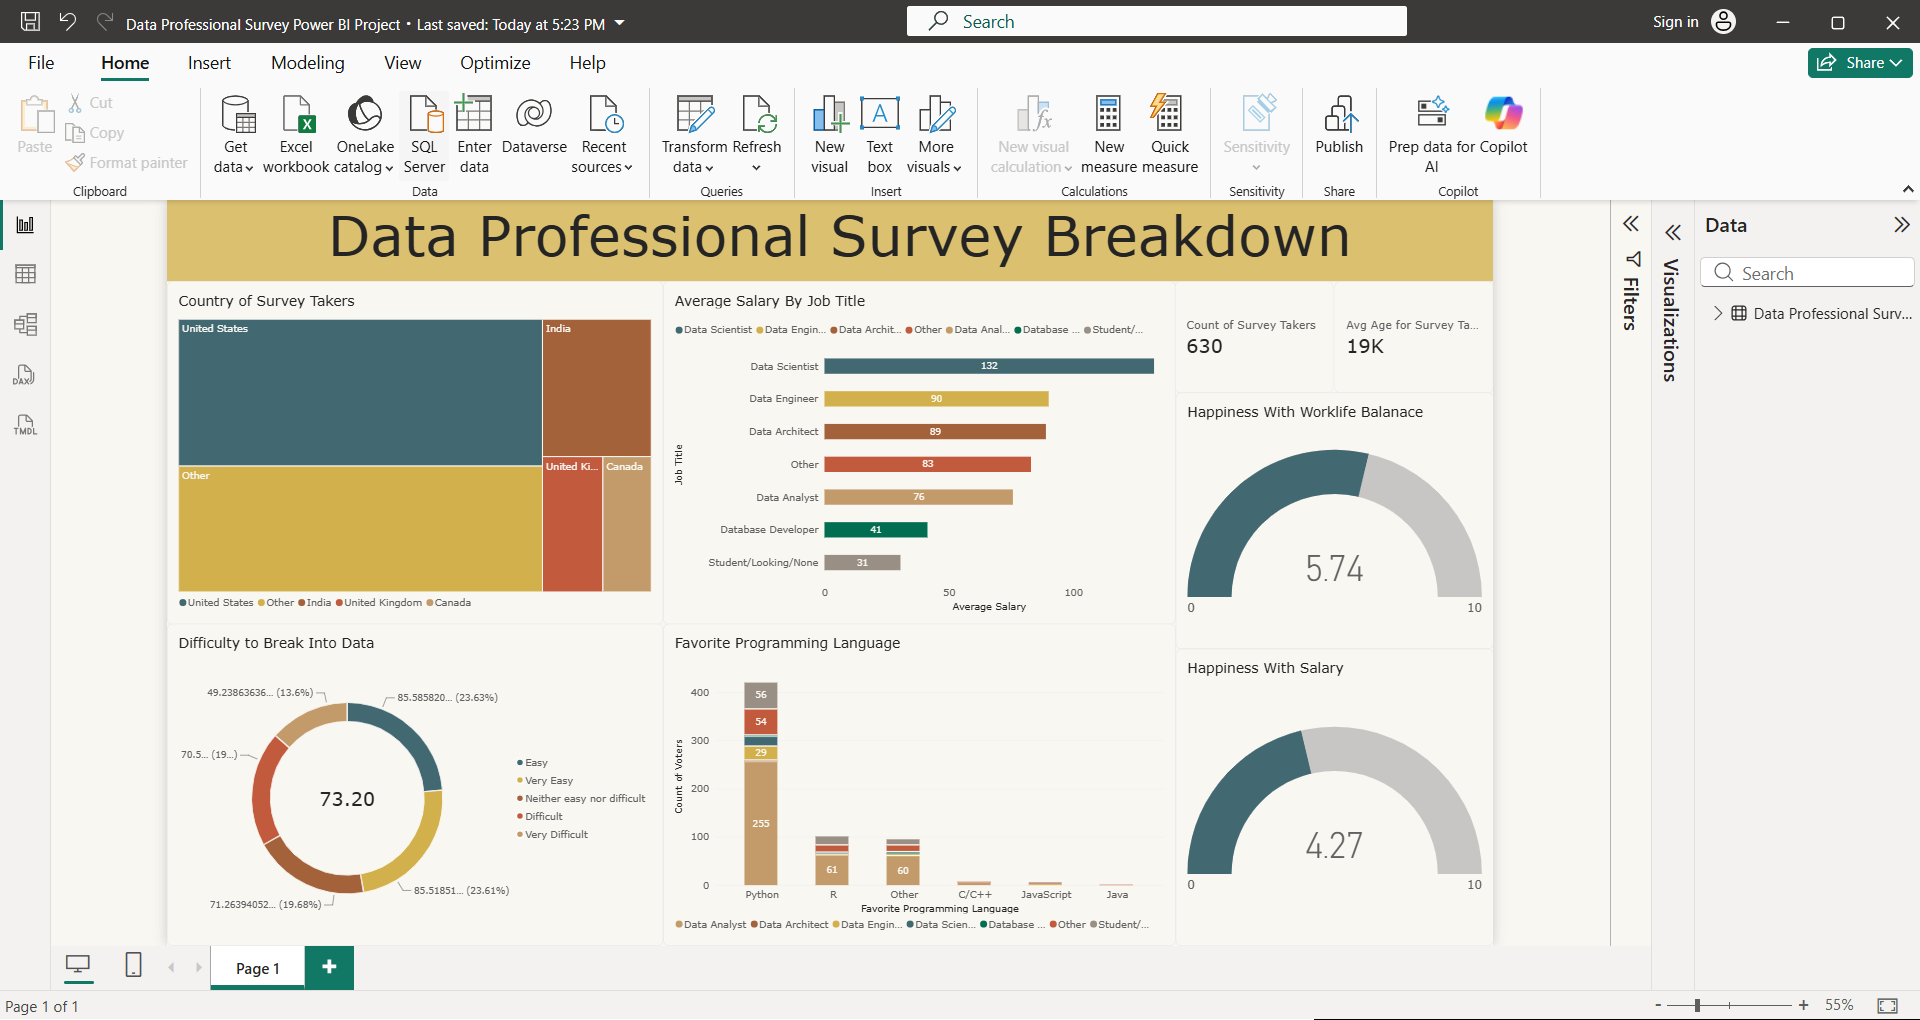

The page's visual inventory and layout, read from the dashboard file:
{"tool":"powerbi","page":{"name":"Page 1","canvas":[1920,1080],"ordinal":0},"visuals":[{"type":"textbox","box":[0,0,1920.4,117.3],"z":0},{"type":"cardVisual","fields":{"Data":["Count(Data Professional Survey.Unique ID)"]},"box":[1459.4,117.3,230.5,162.6],"z":1000},{"type":"cardVisual","fields":{"Data":["Sum(Data Professional Survey.Q10 - Current Age)"]},"box":[1689.9,117.3,230.5,162.6],"z":2000},{"type":"barChart","title":"Average Salary By Job Title","fields":{"Category":["Data Professional Survey.Q1 - Which Title Best Fits your Current Role?.1"],"Series":["Data Professional Survey.Q1 - Which Title Best Fits your Current Role?.1"],"Y":["Avg(Data Professional Survey.Average Salary)"]},"box":[718.3,117.2,741.7,496.6],"z":3000},{"type":"columnChart","title":"Favorite Programming Language","fields":{"Category":["Data Professional Survey.Q5 - Favorite Programming Language.1"],"Series":["Data Professional Survey.Q1 - Which Title Best Fits your Current Role?.1"],"Y":["CountNonNull(Data Professional Survey.Unique ID)"]},"box":[718.3,613.9,741.7,466.8],"z":4000},{"type":"treemap","title":"Country of Survey Takers","fields":{"Group":["Data Professional Survey.Q11 - Which Country do you live in?.1"],"Values":["CountNonNull(Data Professional Survey.Q11 - Which Country do you live in?.1)"]},"box":[0,117.2,718.3,496.6],"z":5000},{"type":"gauge","title":"Happiness With Salary","fields":{"MaxValue":["Max(Data Professional Survey.Q6 - How Happy are you in your Current Position with the following? (Salary))1"],"MinValue":["Min(Data Professional Survey.Q6 - How Happy are you in your Current Position with the following? (Salary))"],"Y":["Avg(Data Professional Survey.Q6 - How Happy are you in your Current Position with the following? (Salary))"]},"box":[1460,650.1,460.4,430.6],"z":6000},{"type":"gauge","title":"Happiness With Worklife Balanace","fields":{"MaxValue":["Max(Data Professional Survey.Q6 - How Happy are you in your Current Position with the following? (Work/Life Balance))1"],"MinValue":["Min(Data Professional Survey.Q6 - How Happy are you in your Current Position with the following? (Work/Life Balance))"],"Y":["Avg(Data Professional Survey.Q6 - How Happy are you in your Current Position with the following? (Work/Life Balance))"]},"box":[1460,279.2,460.4,370.9],"z":7000},{"type":"donutChart","title":"Difficulty to Break Into Data","fields":{"Category":["Data Professional Survey.Q7 - How difficult was it for you to break into Data?"],"Y":["Avg(Data Professional Survey.Average Salary)"]},"box":[0,613.9,718.3,466.8],"z":8000}]}

Visuals, with their boxes on the page's 1920x1080 design canvas (x1, y1, x2, y2). These are canvas units, not pixel positions in the 1920x1020 screenshot, which may show the page scaled, cropped or inside an application window:
textbox: [left=0, top=0, right=1920, bottom=117]
cardVisual - Count(Data Professional Survey.Unique ID): [left=1459, top=117, right=1690, bottom=280]
cardVisual - Sum(Data Professional Survey.Q10 - Current Age): [left=1690, top=117, right=1920, bottom=280]
"Average Salary By Job Title" barChart: [left=718, top=117, right=1460, bottom=614]
"Favorite Programming Language" columnChart: [left=718, top=614, right=1460, bottom=1081]
"Country of Survey Takers" treemap: [left=0, top=117, right=718, bottom=614]
"Happiness With Salary" gauge: [left=1460, top=650, right=1920, bottom=1081]
"Happiness With Worklife Balanace" gauge: [left=1460, top=279, right=1920, bottom=650]
"Difficulty to Break Into Data" donutChart: [left=0, top=614, right=718, bottom=1081]
